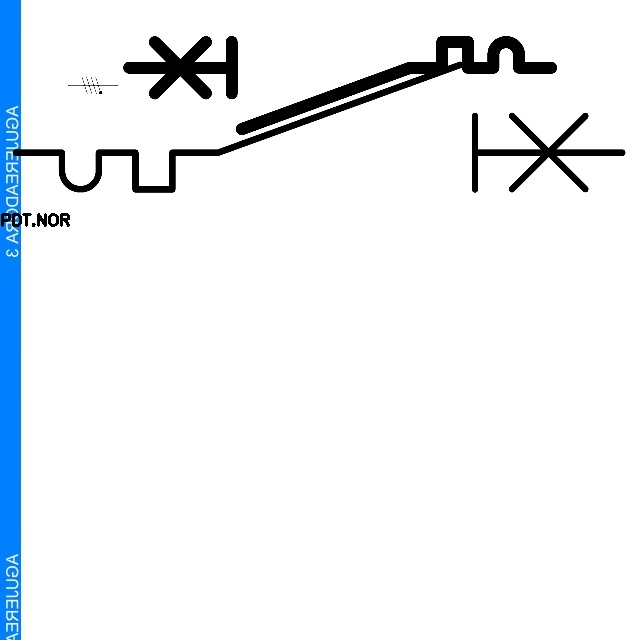interruptor_termomagnetico: (0, 49, 638, 205), (118, 31, 562, 139)
